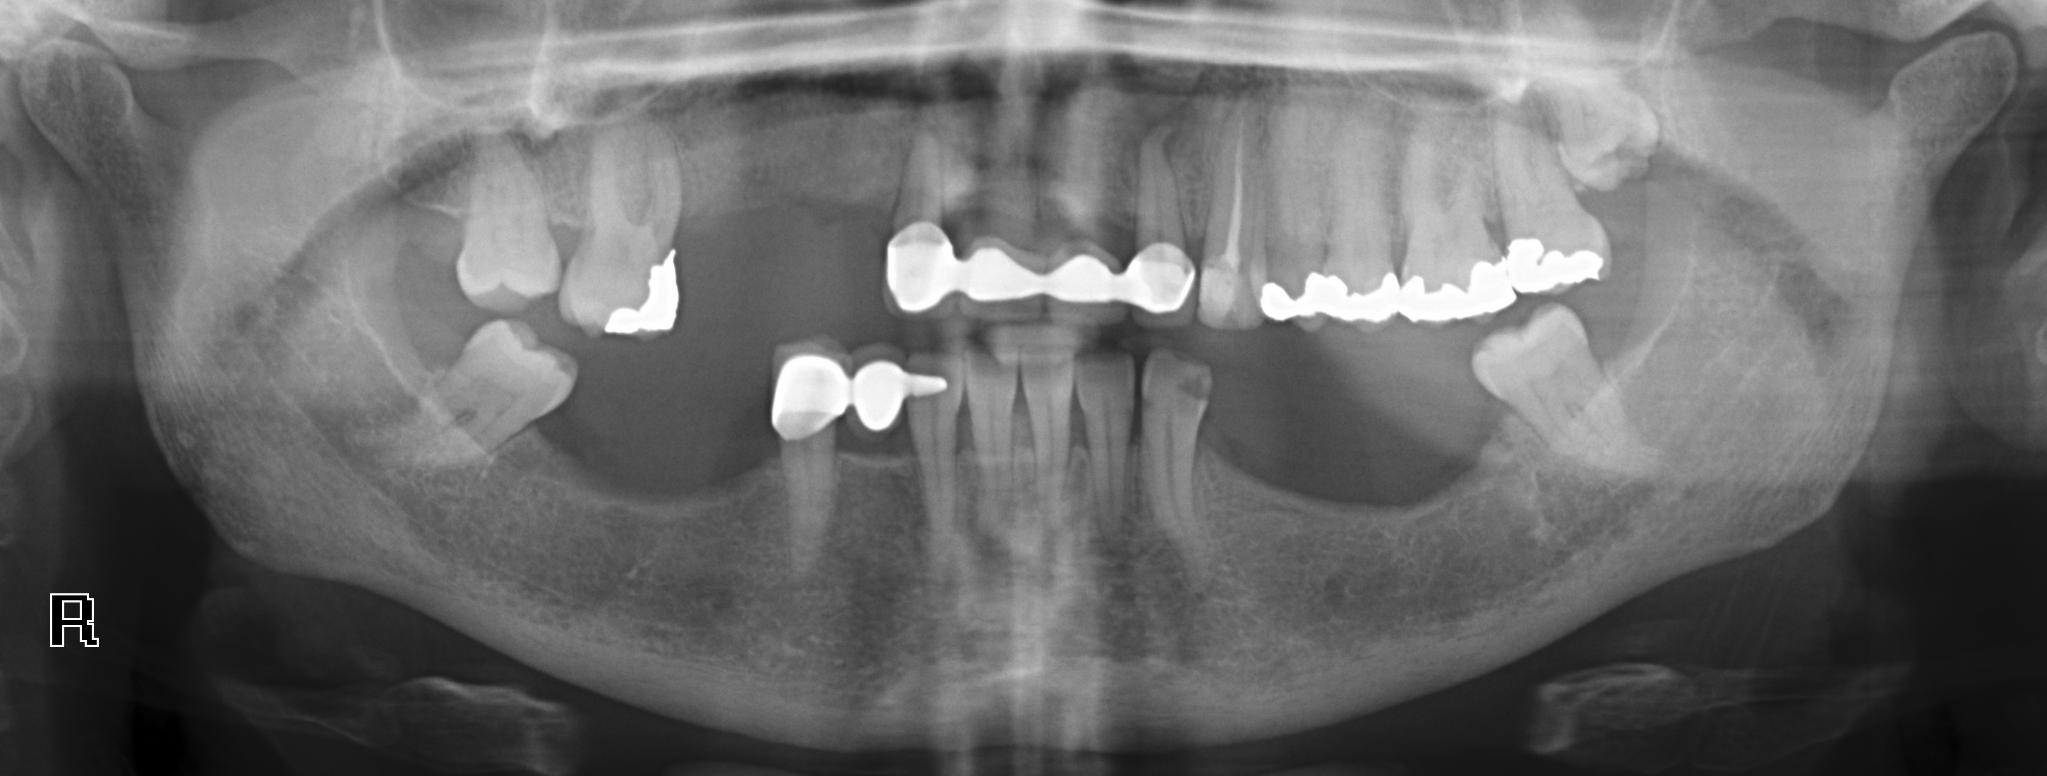Fillings: (1390, 111, 1508, 328), (555, 152, 684, 342), (879, 106, 961, 319), (957, 121, 1043, 312), (1123, 107, 1197, 324), (1039, 123, 1119, 308), (1255, 112, 1322, 328)
